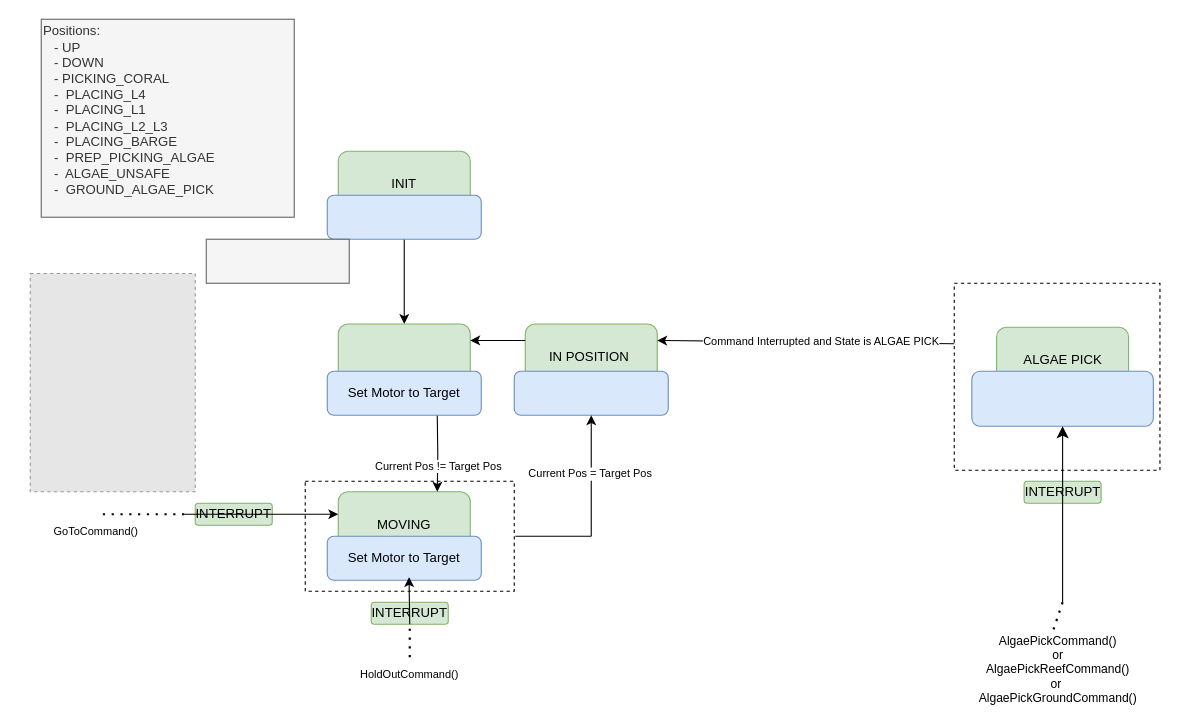
This 1179x724 diagram has some shape labels left out. Grey dashed boxes stand in for pictures. Here are the shapes that lost their labels. From the top down, the centre of each, then its label:
the point at 403,216: set motor to homing power
the point at 277,260: Motor: - Kraken X44
the point at 403,356: IDLE
the point at 590,392: Motor at Target
the point at 1062,398: Spin Motor -0.8V
